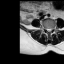CCS_stenosis: (48, 26, 49, 34)
LFS_normal: (51, 26, 53, 31)
LLS_normal: (49, 26, 51, 33)
RFS_normal: (44, 26, 46, 31)
RLS_normal: (46, 26, 48, 32)
